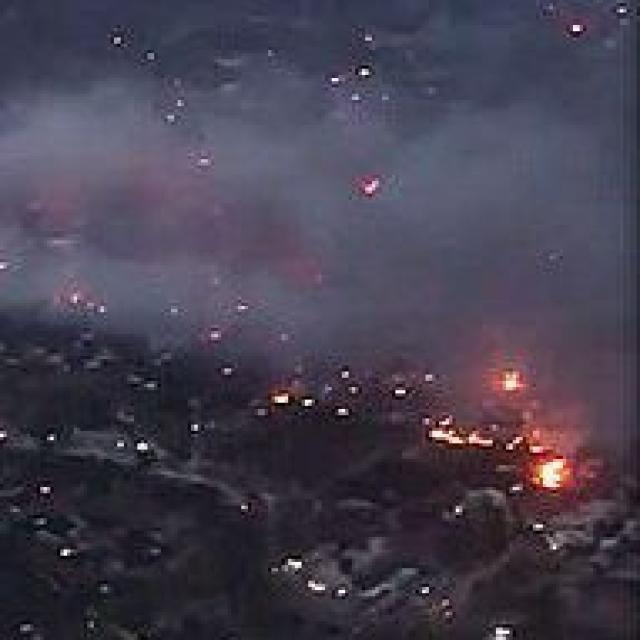Fire: (428, 421, 504, 456), (538, 449, 586, 491), (496, 370, 524, 395)
Smoke: (0, 74, 600, 366)
